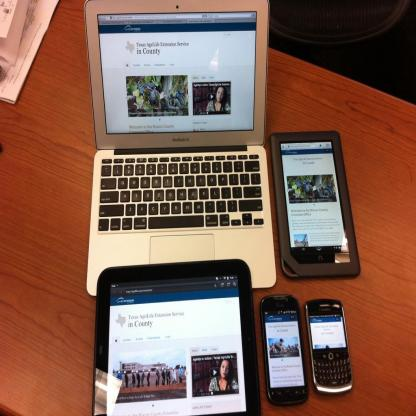board: (72, 0, 281, 288)
